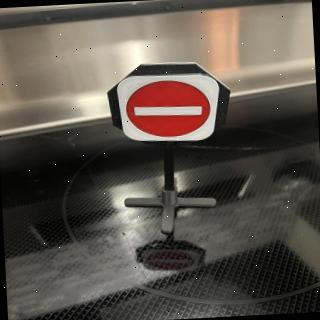sign_noentry: (116, 70, 225, 147)
